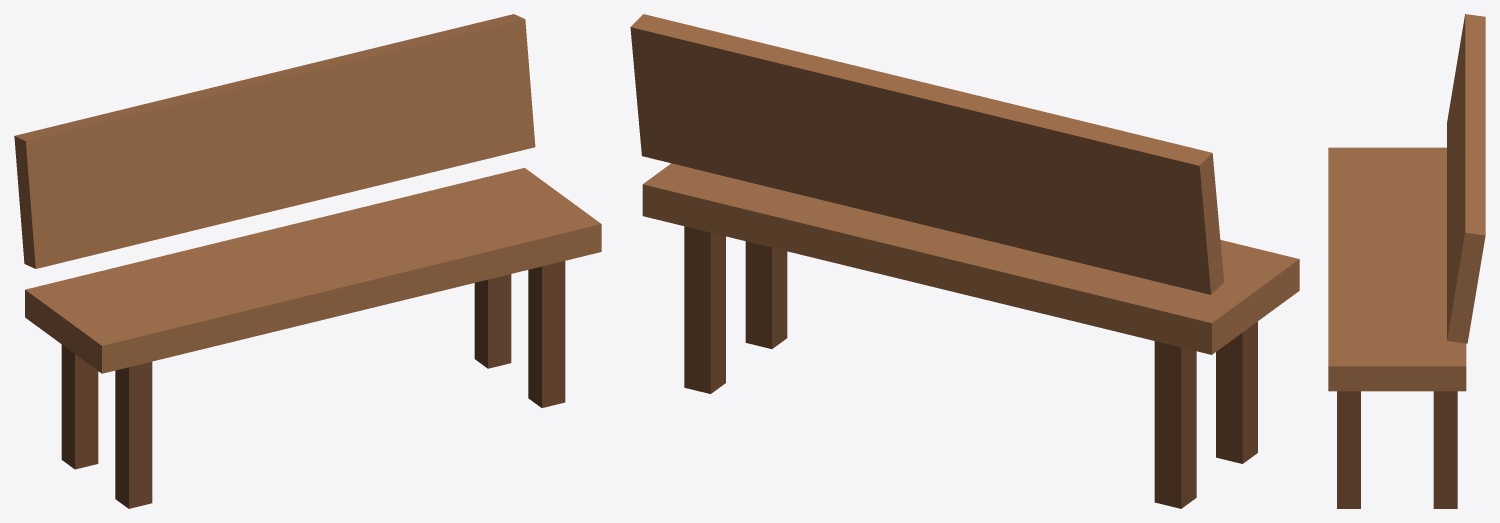
The model's file is stall-bench.glb.
3 views of the same model, side by side, from view 1: azimuth 30°, elevation 25°; view 2: azimuth 150°, elevation 25°; view 3: azimuth 270°, elevation 25° (orthographic). The views are drawn at different scales.
Size of the model in its own units: 1.5 by 0.9275 by 0.4558.
